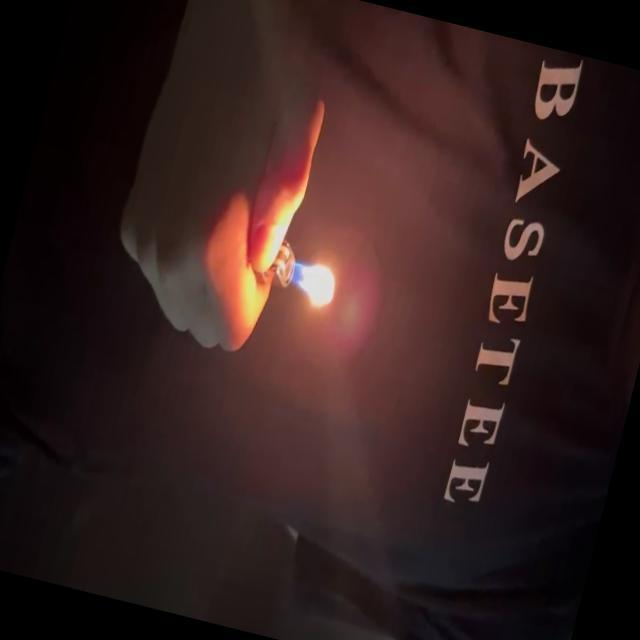Fire: (276, 252, 344, 319)
